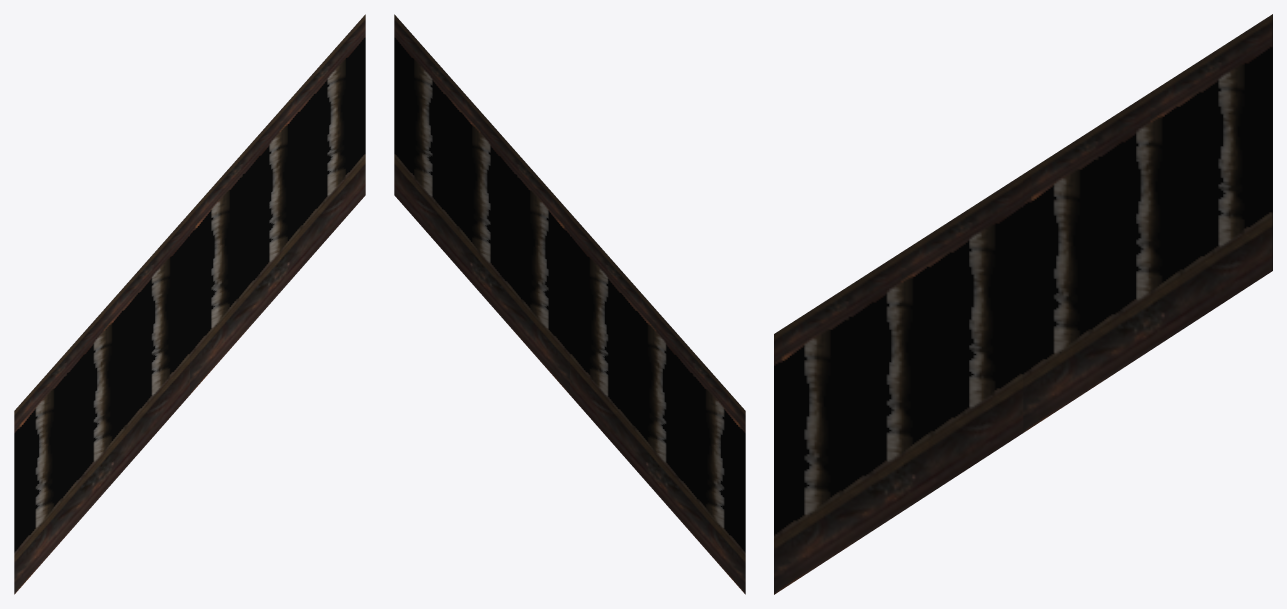
File: stairbanister.fbx
3 views of the same model, side by side, from view 1: azimuth 30°, elevation 25°; view 2: azimuth 150°, elevation 25°; view 3: azimuth 330°, elevation 25° (orthographic). The views are drawn at different scales.
Visible parts, largest first — view 1: stairbanister; view 2: stairbanister; view 3: stairbanister.
Boxes of the visible parts, left/top/right/bottom form: stairbanister: left=14, top=14, right=365, bottom=594; stairbanister: left=394, top=14, right=745, bottom=594; stairbanister: left=774, top=14, right=1272, bottom=594.
Size of the model in its own units: 260 by 350 by 0.1.
